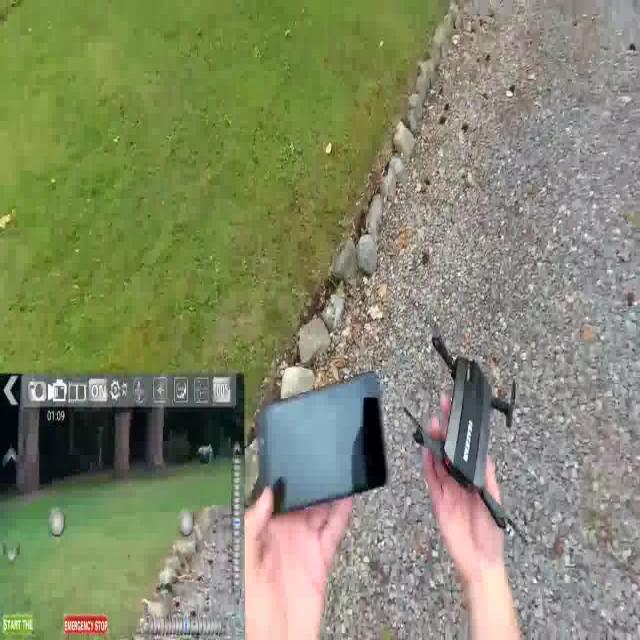drones: (392, 298, 534, 567)
